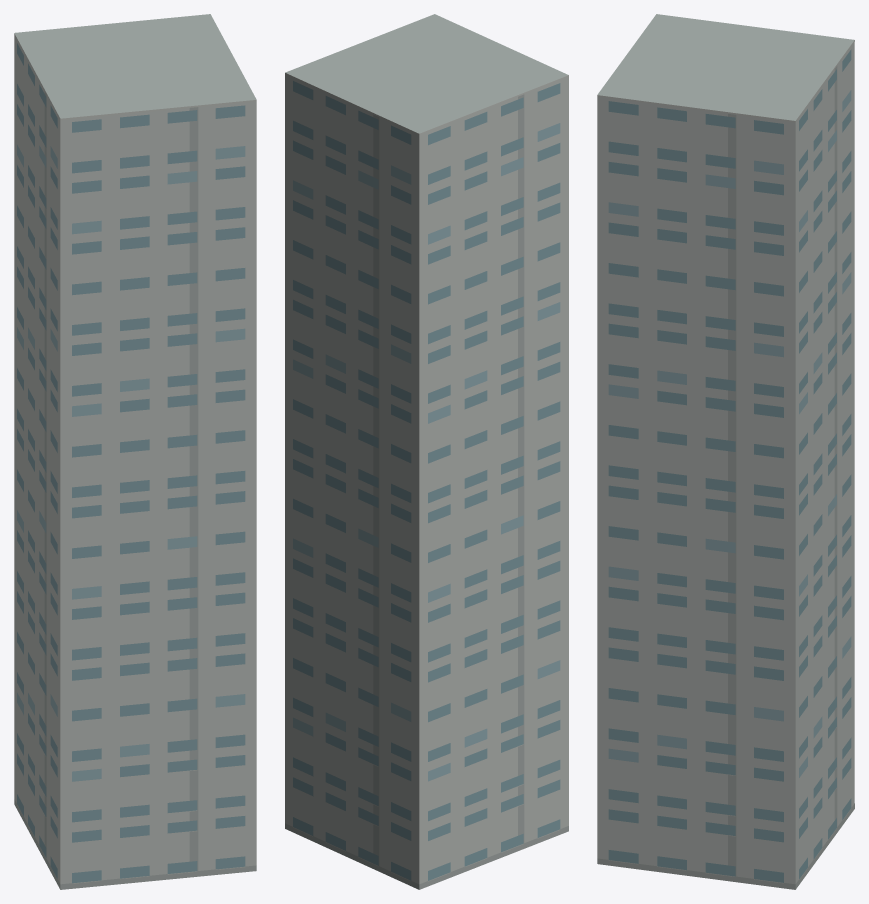
The model's file is residential-f5936369-e7ae-4ed2-8c28-90d4619590b3.glb.
3 renders of one model, left to right at view 1: azimuth 30°, elevation 25°; view 2: azimuth 150°, elevation 25°; view 3: azimuth 270°, elevation 25°, orthographic. The views are drawn at different scales.
Parts seen in each view (by area): view 1: residential-f5936369-e7ae-4ed2-8c28-90d4619590b3.tmp; view 2: residential-f5936369-e7ae-4ed2-8c28-90d4619590b3.tmp; view 3: residential-f5936369-e7ae-4ed2-8c28-90d4619590b3.tmp.
Boxes of the visible parts, left/top/right/bottom form: residential-f5936369-e7ae-4ed2-8c28-90d4619590b3.tmp: left=14, top=14, right=256, bottom=889; residential-f5936369-e7ae-4ed2-8c28-90d4619590b3.tmp: left=285, top=14, right=568, bottom=889; residential-f5936369-e7ae-4ed2-8c28-90d4619590b3.tmp: left=597, top=14, right=854, bottom=889.
Size of the model in its own units: 34.62 by 116 by 35.23.
